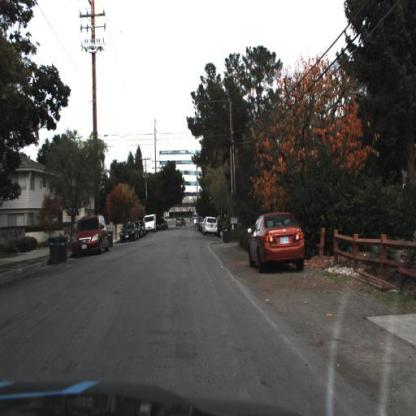biker: (194, 215, 199, 231)
car: (247, 212, 307, 276), (72, 215, 111, 257), (122, 225, 138, 243), (205, 219, 220, 236), (145, 214, 157, 233), (176, 217, 186, 227), (157, 219, 165, 231)
